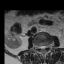CCS_normal: (42, 44, 44, 52)
LFS_normal: (46, 43, 48, 49)
LLS_normal: (44, 44, 46, 50)
RFS_normal: (38, 44, 40, 50)
RLS_normal: (40, 44, 42, 50)
